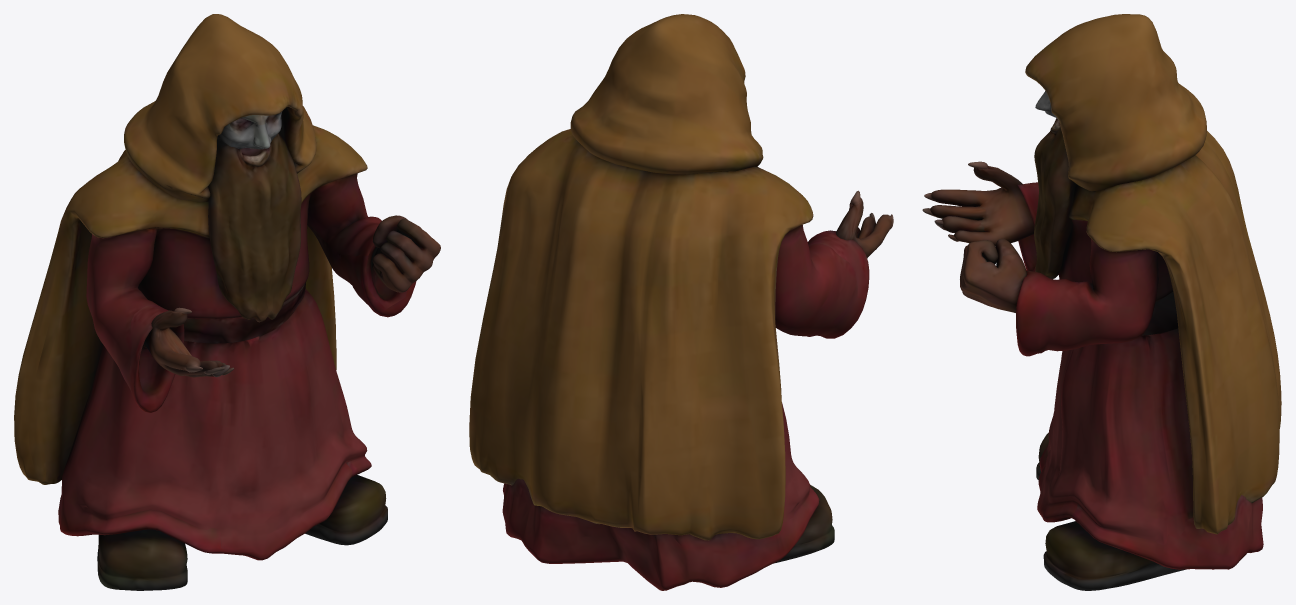
The model's file is MZ4250 - DuergarMindMaster_Alt2.glb.
3 renders of one model, left to right at view 1: azimuth 30°, elevation 25°; view 2: azimuth 150°, elevation 25°; view 3: azimuth 270°, elevation 25°, orthographic.
Visible parts, largest first — view 1: Duergar Mind Master.001; view 2: Duergar Mind Master.001; view 3: Duergar Mind Master.001.
Part boxes in pixels (x1,y1,x2,y2): Duergar Mind Master.001: (14,14,440,590); Duergar Mind Master.001: (469,14,893,590); Duergar Mind Master.001: (922,14,1281,590).
Bounding box in the file's own units: 18.01 × 27.97 × 17.81.
Materials: 1 (1 with a texture image).
